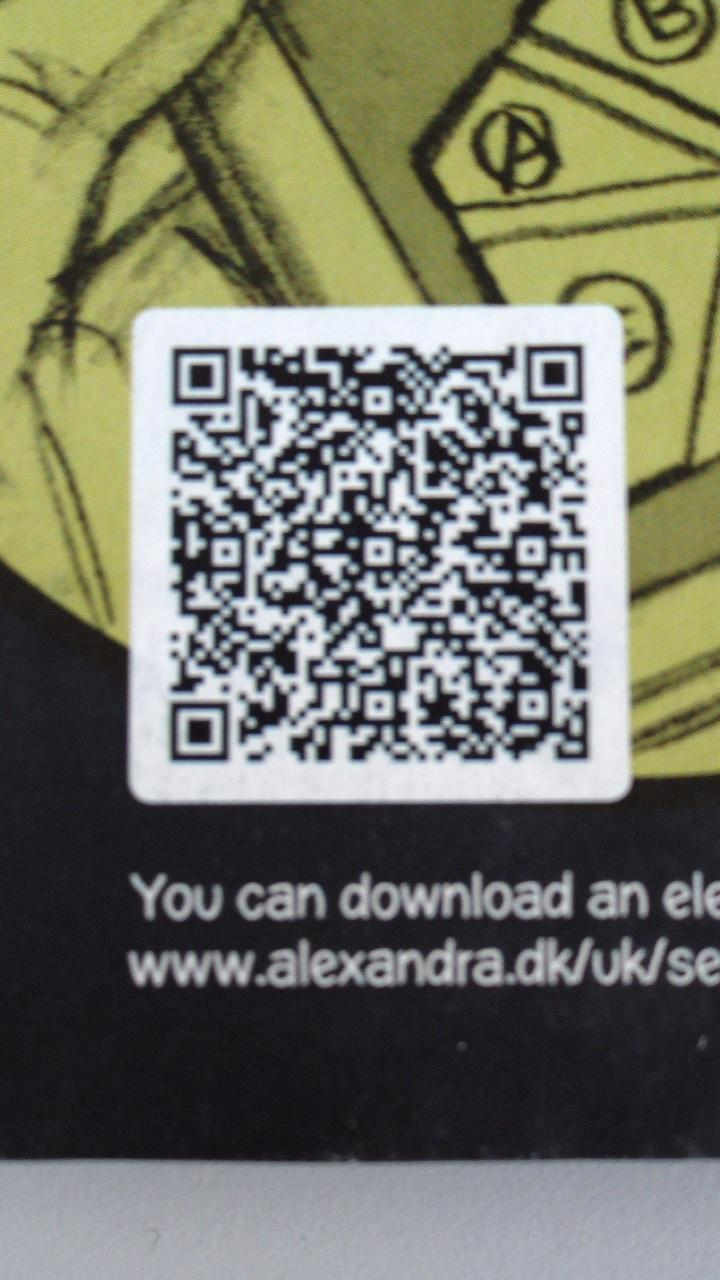Finder pattern: (159, 687, 241, 773), (163, 332, 237, 411), (513, 336, 592, 407)
